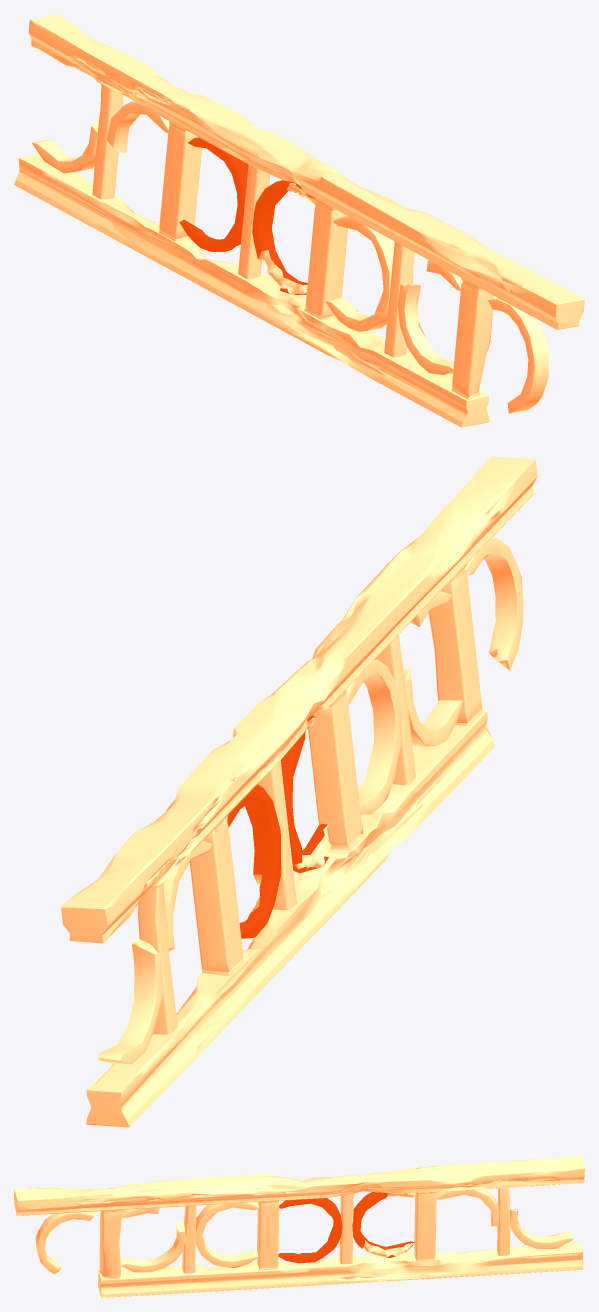
Rendered from SM_Rails_Officer.fbx.
3 views of the same model, one above another, from view 1: azimuth 30°, elevation 25°; view 2: azimuth 150°, elevation 25°; view 3: azimuth 270°, elevation 25° (orthographic). The views are drawn at different scales.
Parts seen in each view (by area): view 1: SM_Rails_Officer_LOD0; view 2: SM_Rails_Officer_LOD0; view 3: SM_Rails_Officer_LOD0.
Part boxes in pixels (x1=…): SM_Rails_Officer_LOD0: x1=14, y1=14, x2=584, y2=427; SM_Rails_Officer_LOD0: x1=61, y1=456, x2=537, y2=1127; SM_Rails_Officer_LOD0: x1=14, y1=1156, x2=584, y2=1297.
Bounding box in the file's own units: 146 × 719 × 154.
